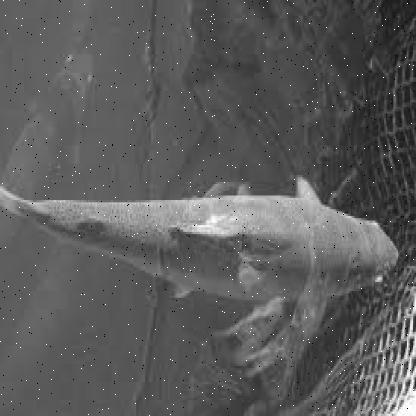fish: (0, 170, 397, 351)
